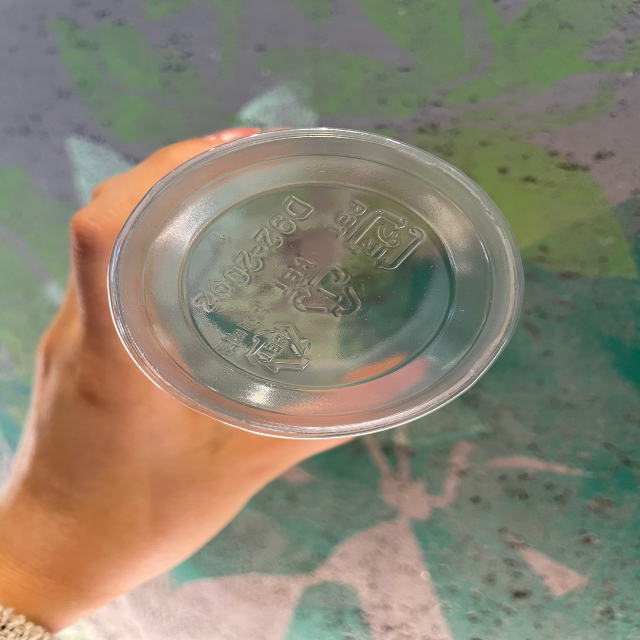pet: (212, 296, 319, 386), (324, 189, 423, 277), (267, 252, 374, 332)
